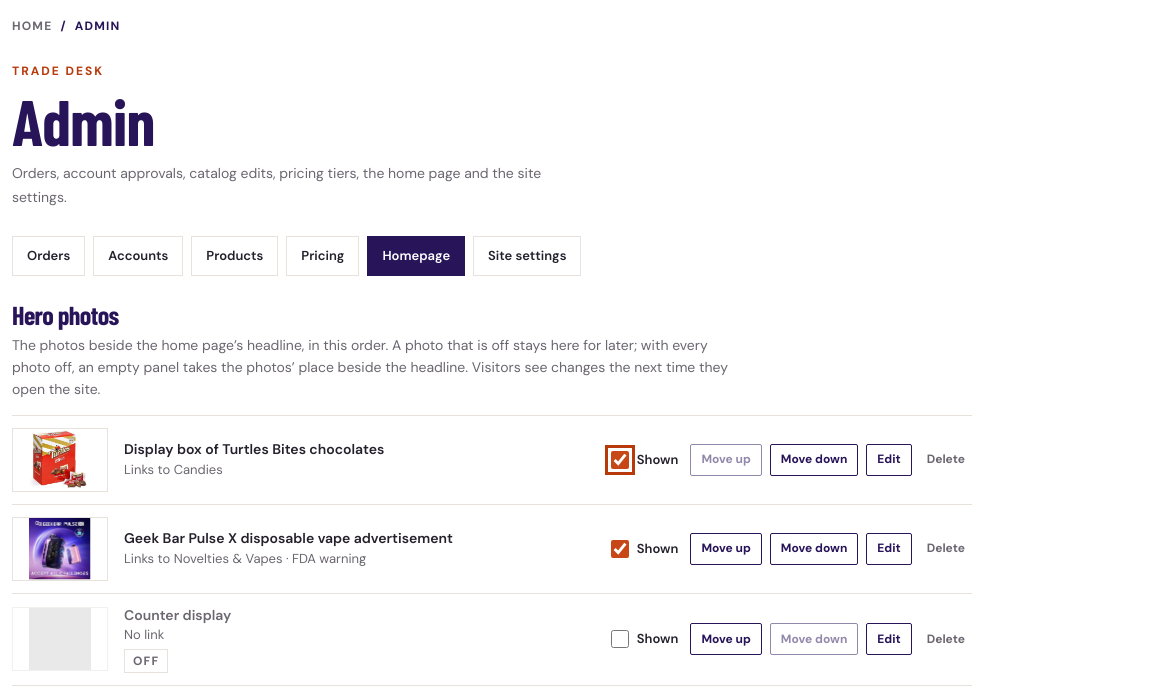
Admin -> Homepage (AW-119) › turns a photo off and on at once, and its Shown box keeps the focus (NEW-071)
Step 1. Click the checkbox labelled "Shown " in the row of "Display box of Turtles Bites chocolates" → click(620, 460), box [611,451,629,469]
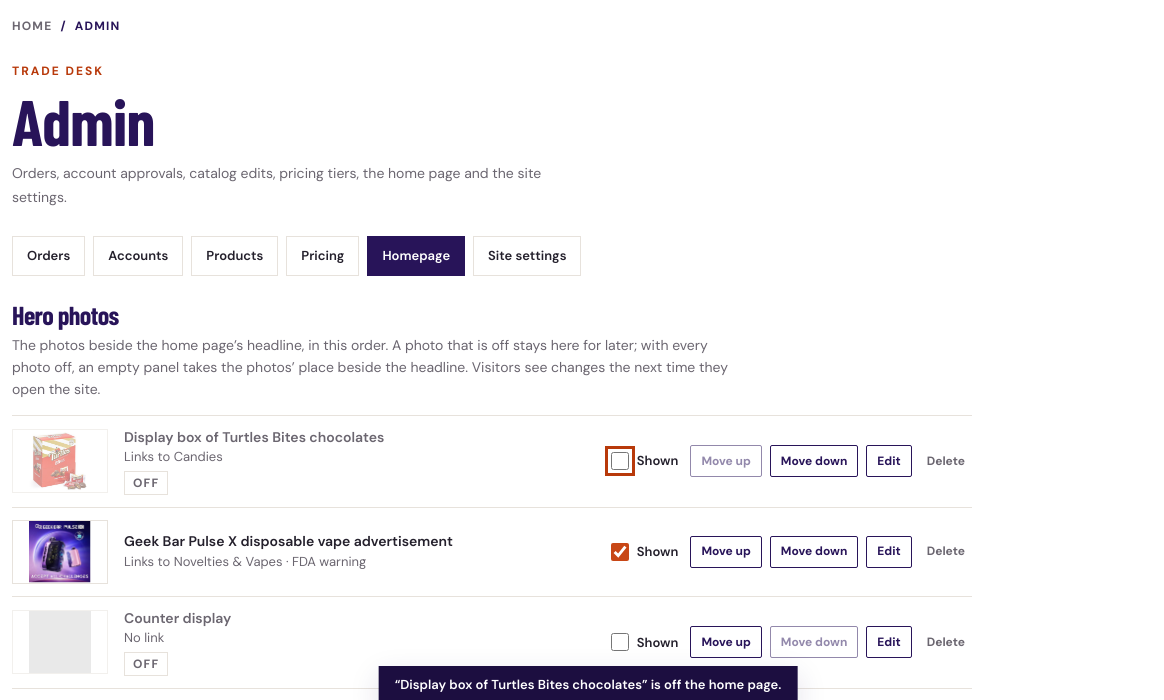
Expected: the message with class "admin-status-text" reads "“Display box of Turtles Bites chocolates” is off the home page.", [395,676,781,693]
Step 2. Click the checkbox named "Shown Display box of Turtles Bites chocolates" → click(620, 461), box [611,452,629,470]
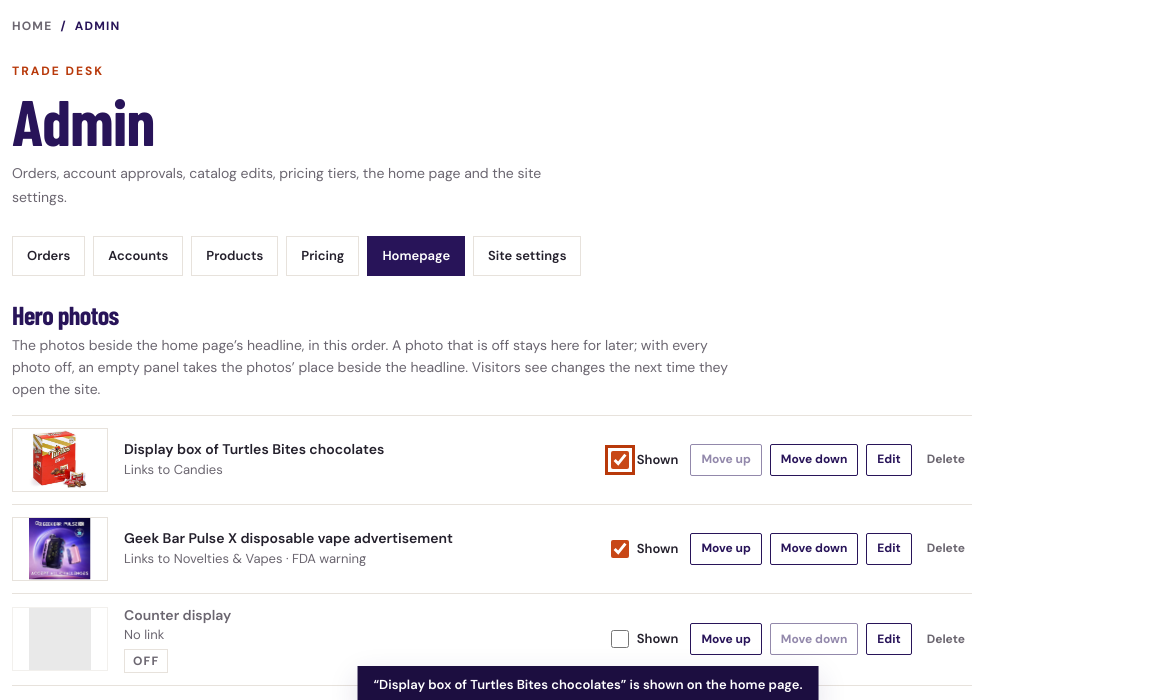
Expected: the message with class "admin-status-text" reads "“Display box of Turtles Bites chocolates” is shown on the home page.", [374,676,802,693]
